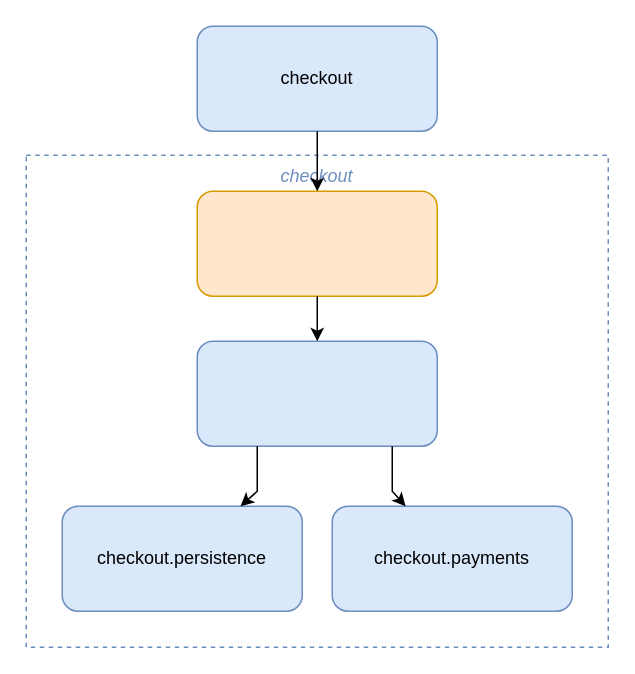
Some shapes in this 635 by 674 pixel diagram are drawn without their labels. Each missing label, with the centre of its shape:
checkout.gateway: pixel 316 243
checkout.orders: pixel 316 393
